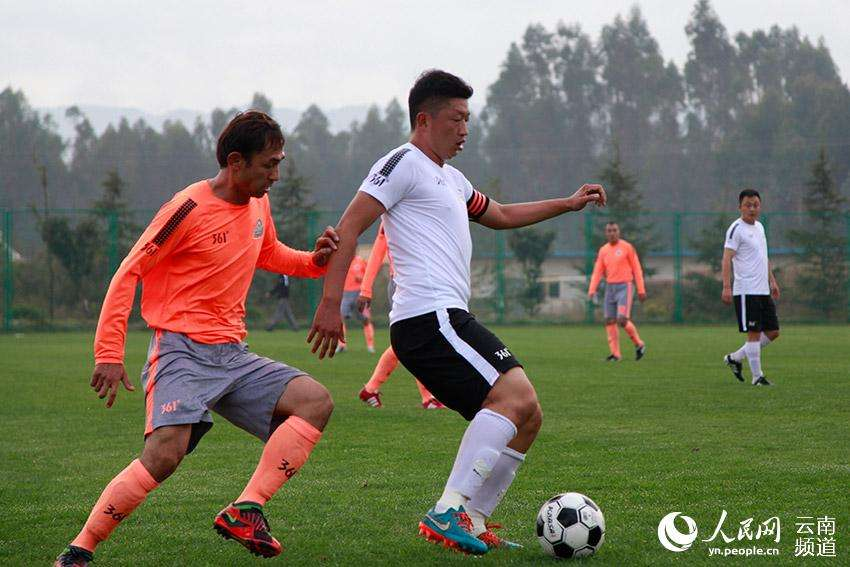football: (534, 493, 607, 561)
